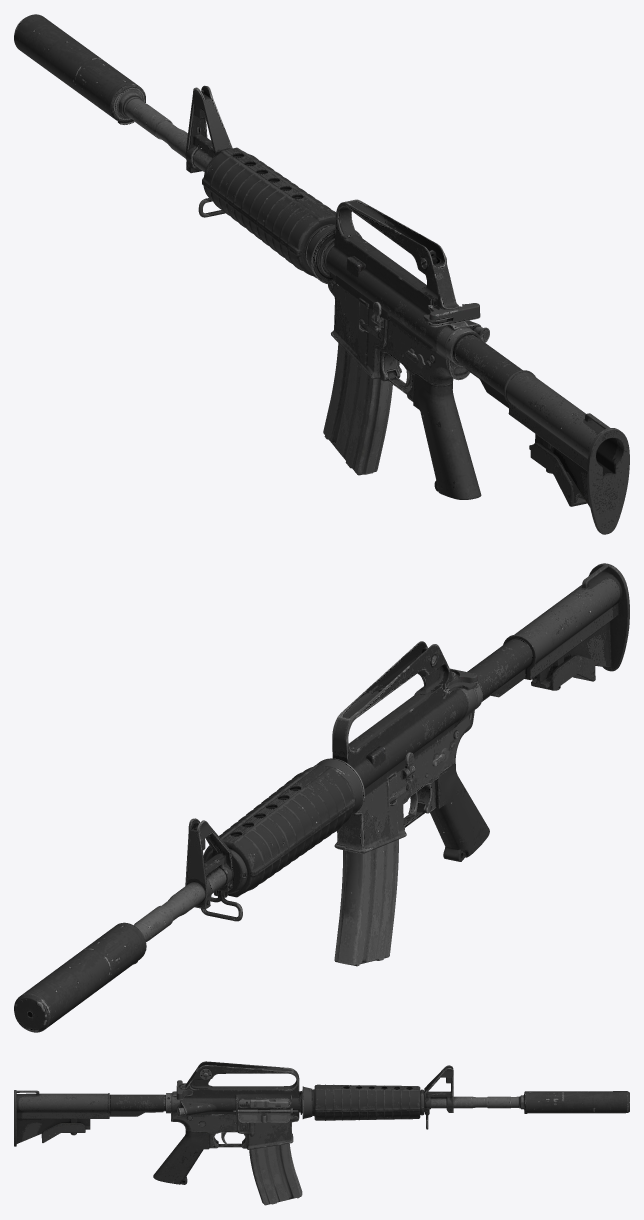
3 renders of one model, top to bottom at view 1: azimuth 30°, elevation 25°; view 2: azimuth 150°, elevation 25°; view 3: azimuth 270°, elevation 25°, orthographic. The views are drawn at different scales.
Visible parts, largest first — view 1: v_m4a1_R; view 2: v_m4a1_R; view 3: v_m4a1_R.
Part boxes in pixels (bbox=[...]): v_m4a1_R: bbox=[14, 14, 629, 534]; v_m4a1_R: bbox=[14, 563, 629, 1032]; v_m4a1_R: bbox=[14, 1061, 629, 1205].
Bounding box in the file's own units: 0.0791 × 0.2998 × 1.18.
1 material, 1 textured.
